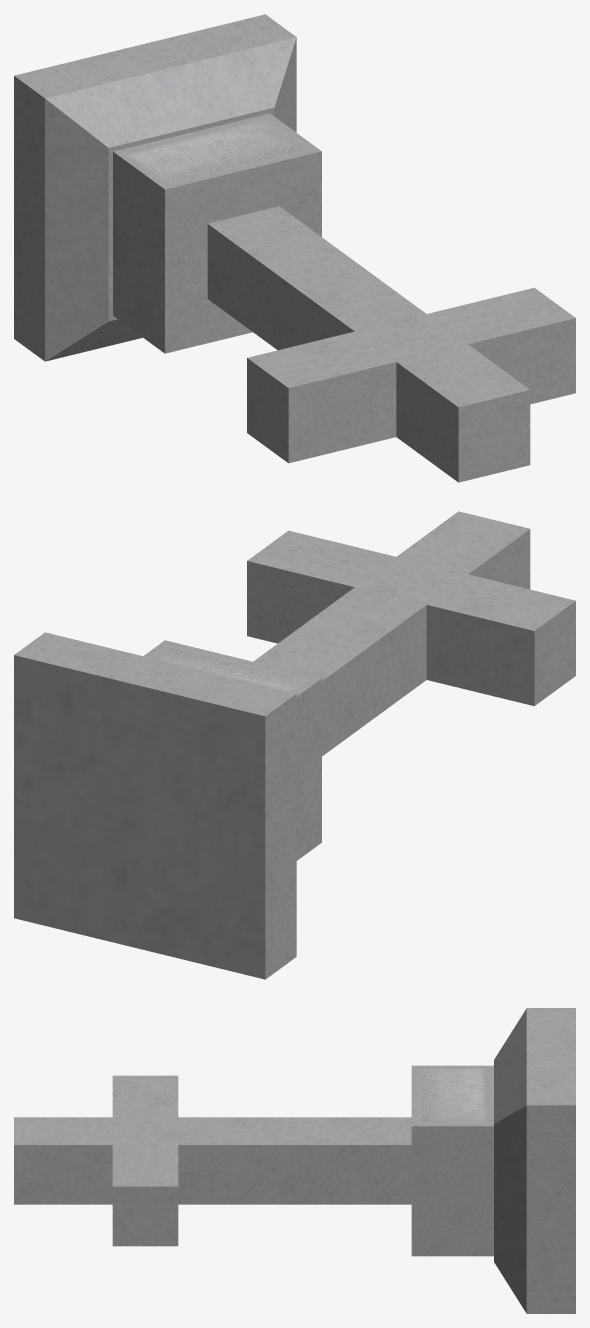
3 views of the same model, one above another, from view 1: azimuth 30°, elevation 25°; view 2: azimuth 150°, elevation 25°; view 3: azimuth 270°, elevation 25° (orthographic). The views are drawn at different scales.
Visible parts, largest first — view 1: PA-403-F_LOD0; view 2: PA-403-F_LOD0; view 3: PA-403-F_LOD0.
Part boxes in pixels (x1,y1,x2,y2): PA-403-F_LOD0: [14, 14, 575, 482]; PA-403-F_LOD0: [14, 511, 575, 979]; PA-403-F_LOD0: [14, 1008, 575, 1313].
Size of the model in its own units: 40.64 by 35.56 by 86.88.
